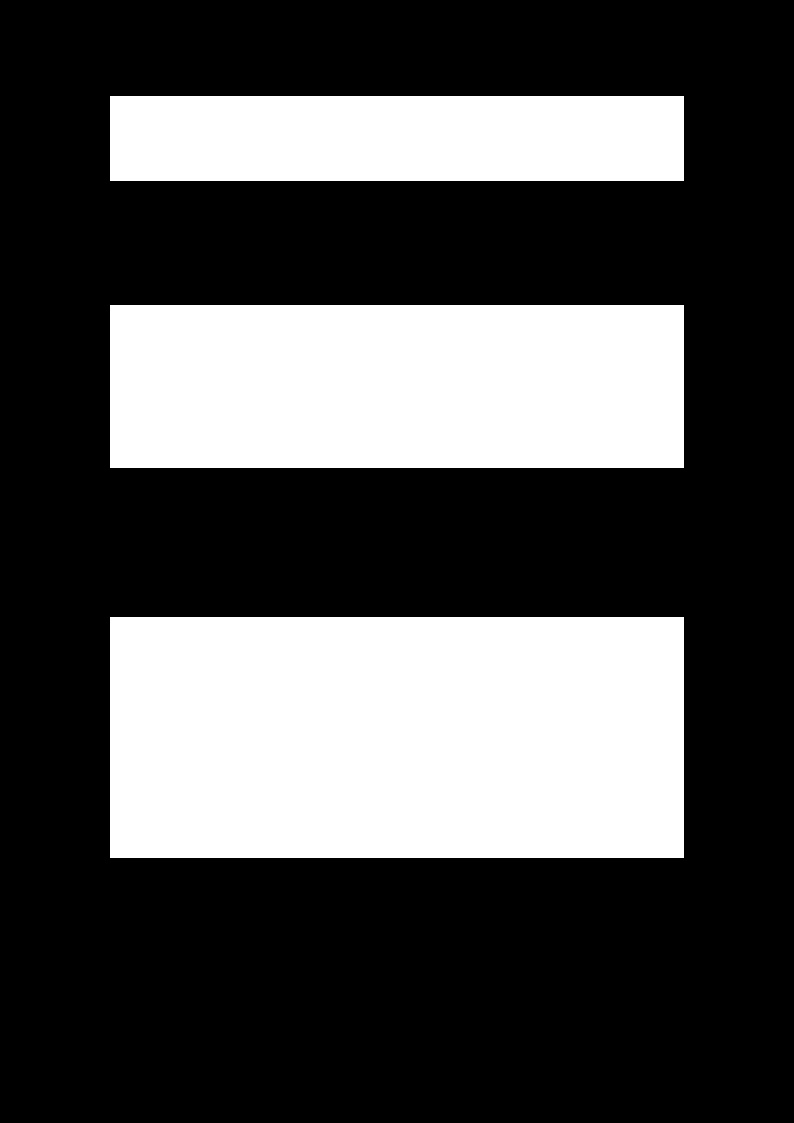table: (110, 617, 683, 857), (110, 305, 683, 467), (110, 96, 683, 180)
